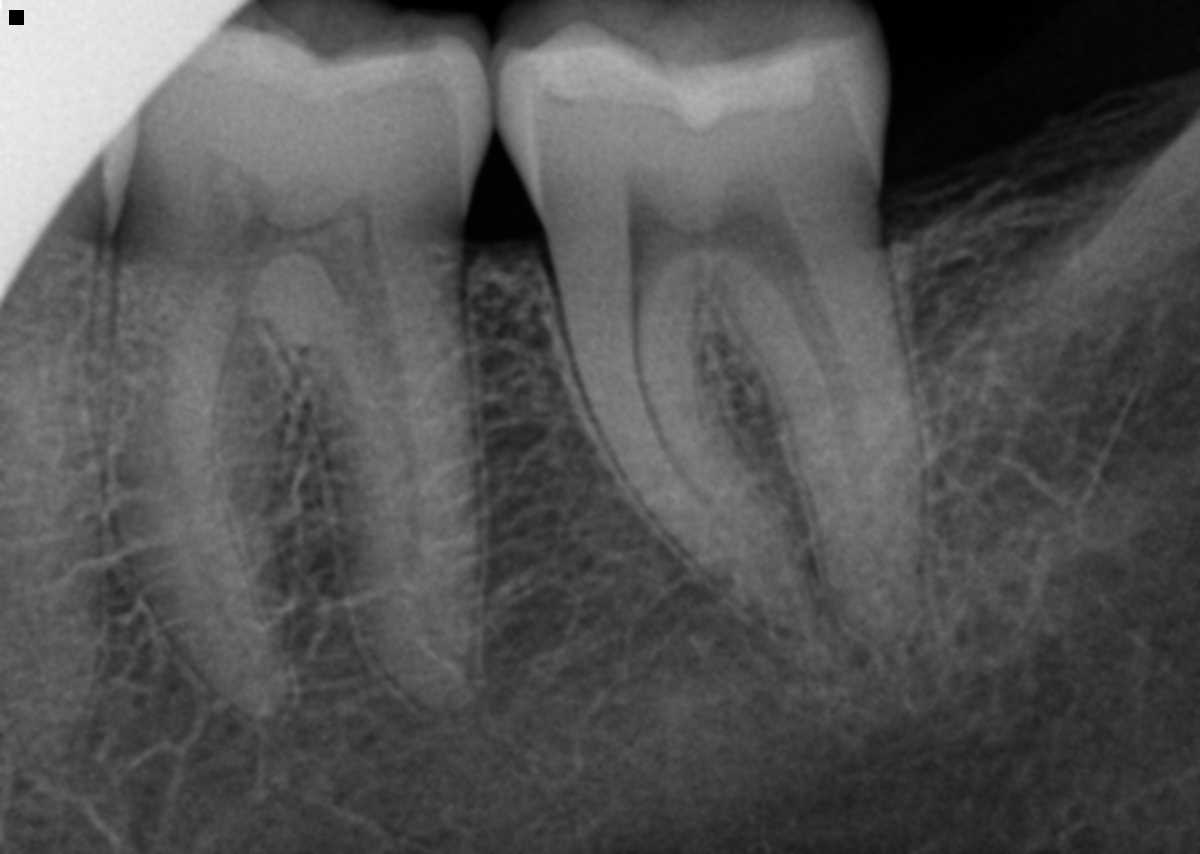Distal Canal: (785, 274, 880, 559), (353, 300, 423, 598)
Distal Root: (279, 292, 483, 711), (736, 199, 922, 646)
Mesial Canal: (153, 319, 255, 672), (630, 292, 742, 534)
Mesial Root: (559, 264, 825, 641), (102, 249, 290, 724)
